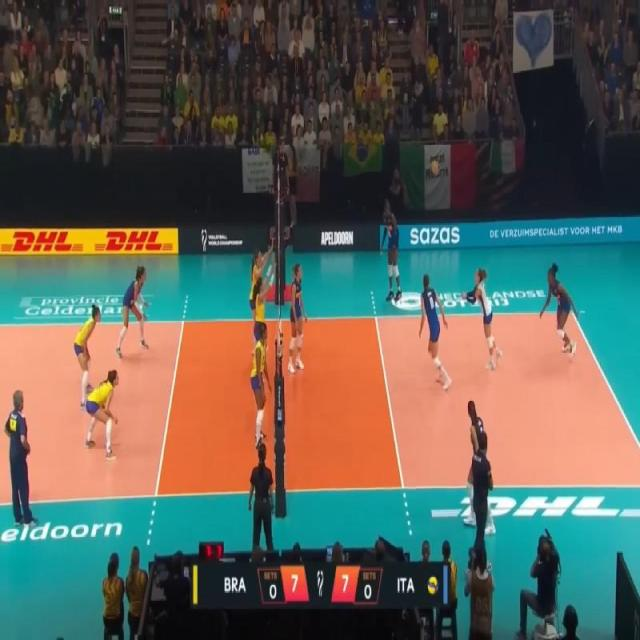volleyball: (430, 158, 440, 177)
